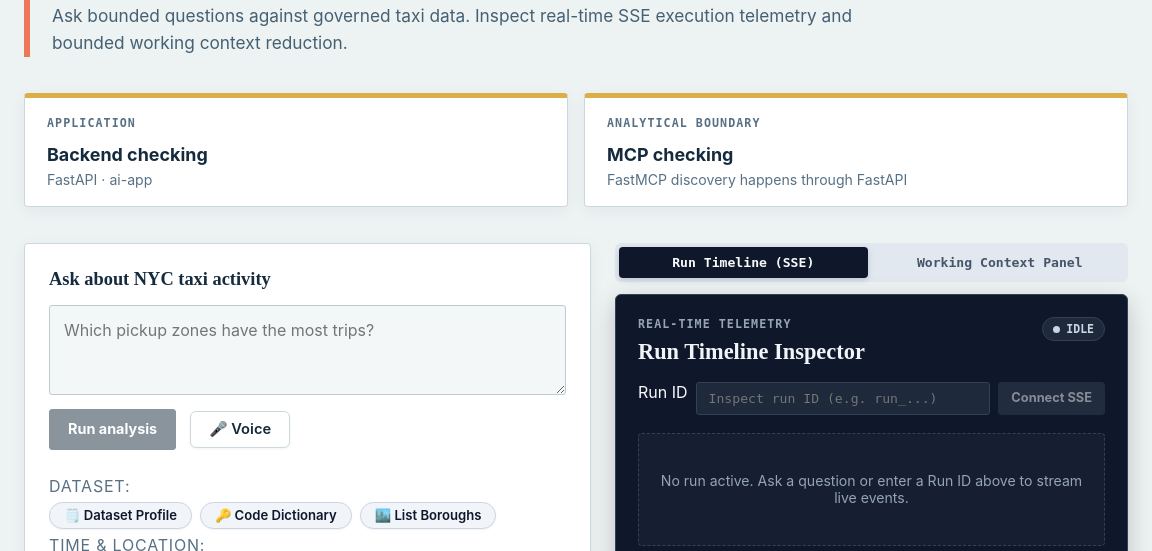
Test: App › uses backend-issued IDs from the first turn and reuses the conversation on the second
In the text box labelled "Ask about NYC taxi activity": (308, 350) [49,306,566,396], type "First query: top pickup zones"
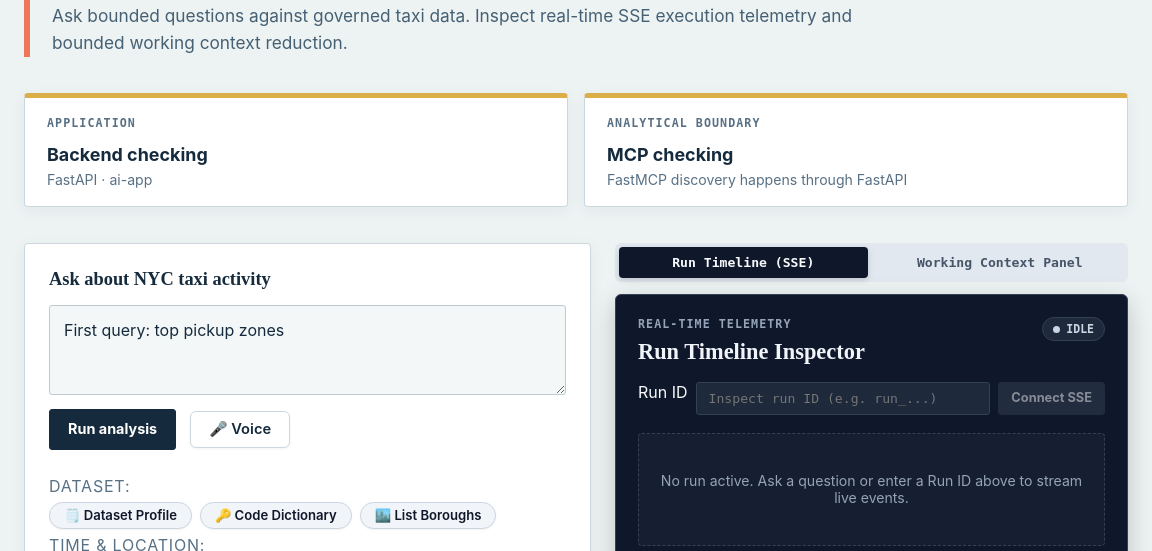
Click the button "Run analysis": (113, 430) [49,410,176,450]
(page scrolled)
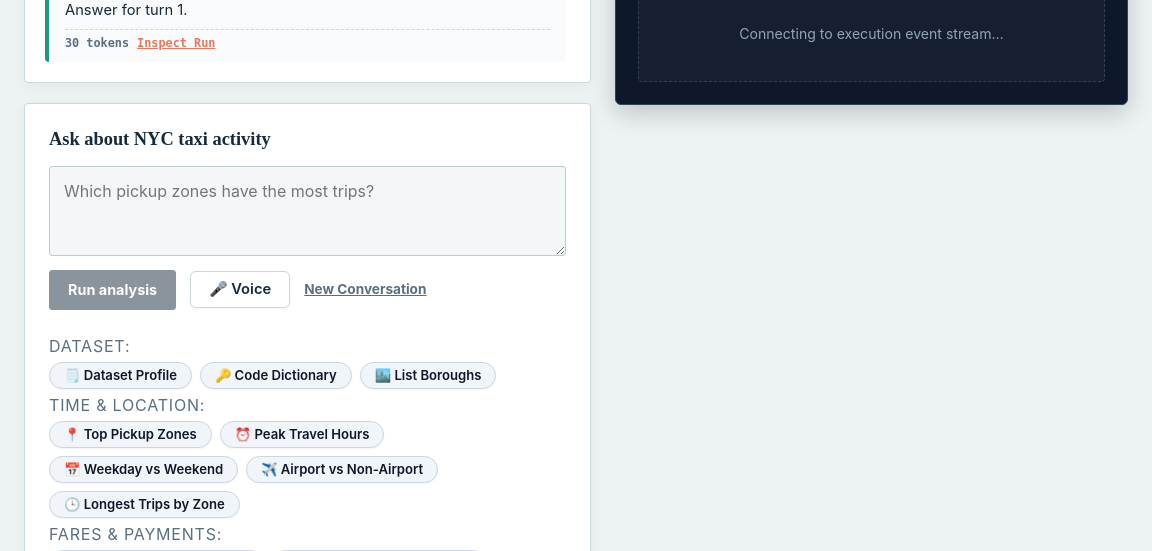
In the text box labelled "Ask about NYC taxi activity": (308, 211) [49,166,566,256], type "Second query: fare distribution"
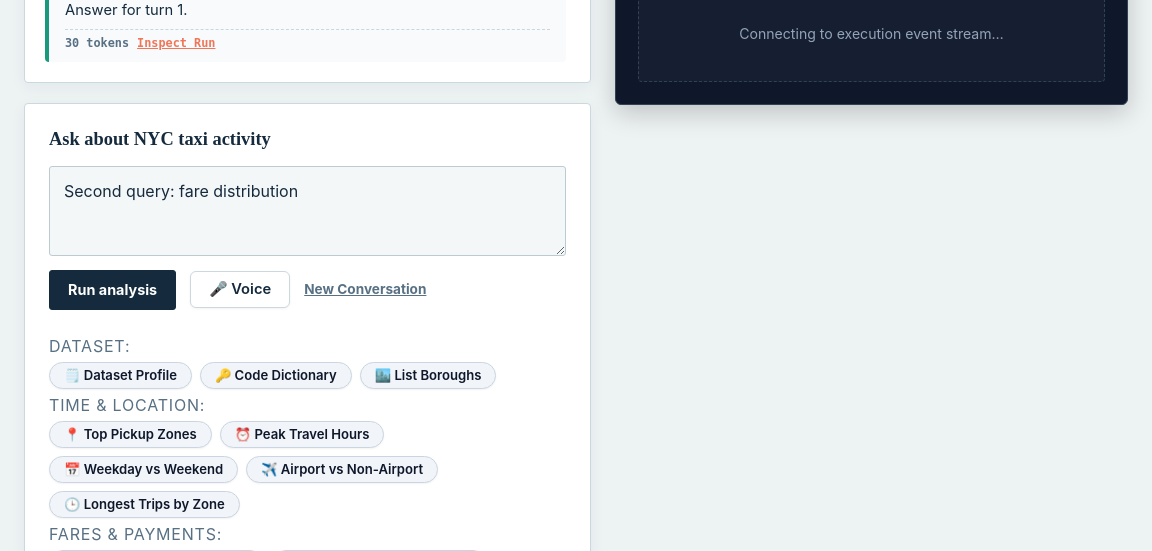
Click the button "Run analysis": (113, 290) [49,270,176,310]
(page scrolled)
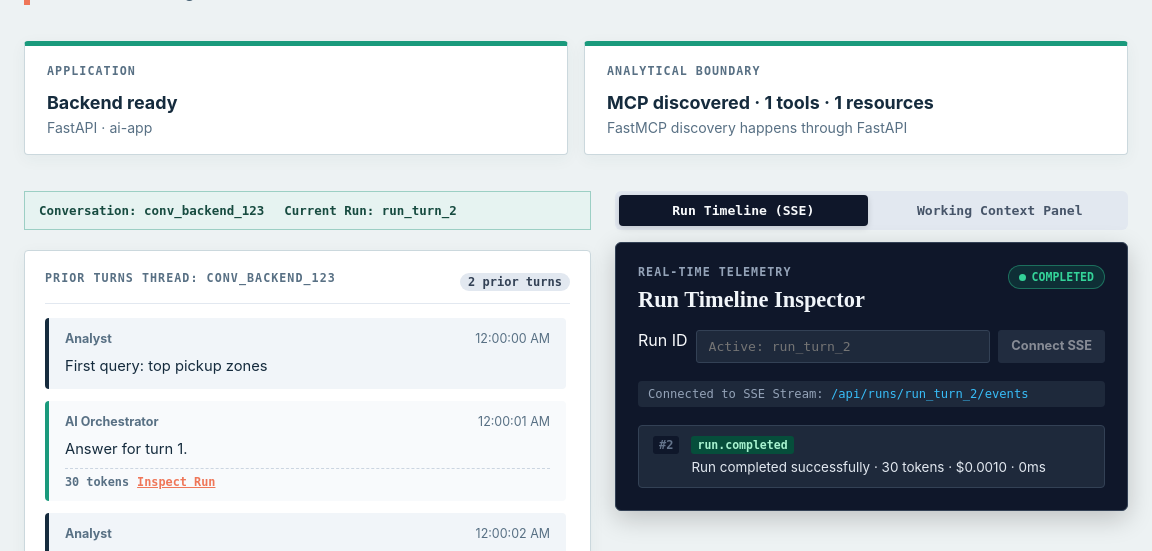
Expected: the element named "Conversation and current run identity" shows "Conversation: conv_backend_123", [24,191,591,230]
Expected: the text "First query: top pickup zones" is shown, [65,357,268,375]
Expected: the element named "Conversation and current run identity" shows "Current Run: run_turn_2", [24,191,591,230]
# Switch to context tab and verify working context panel
Click the tab "Working Context Panel": (1000, 210) [876,195,1124,226]
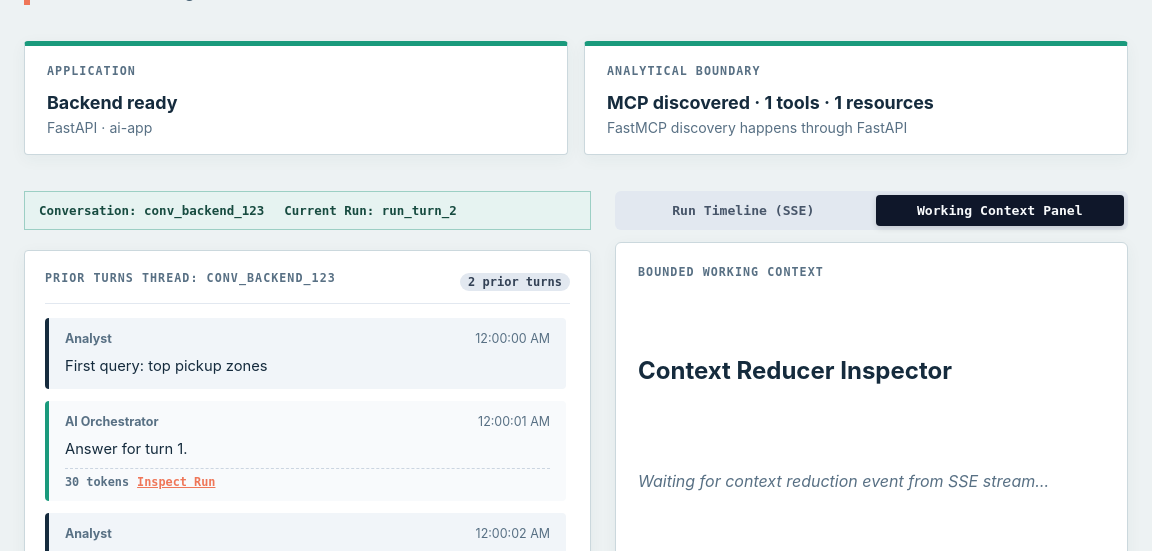
Expected: the text "Waiting for context reduction event from SSE stream…" is shown, [638,471,1049,491]
